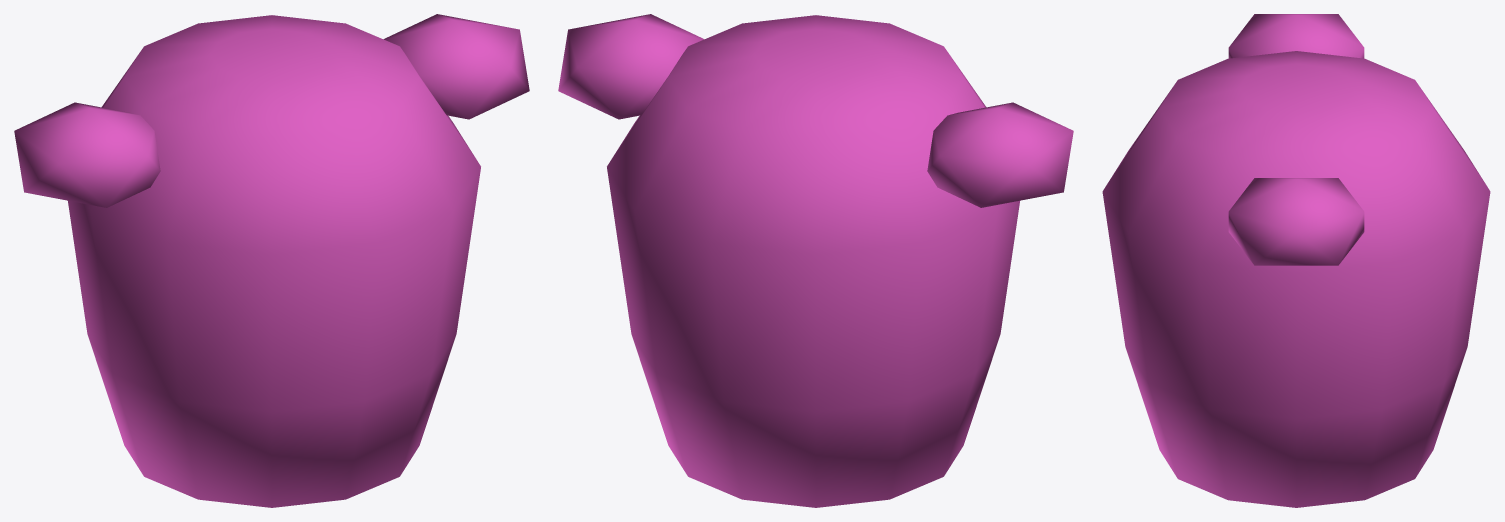
File: nebula_breastplate.glb
The picture shows the model from 3 angles, left to right: view 1: azimuth 30°, elevation 25°; view 2: azimuth 150°, elevation 25°; view 3: azimuth 270°, elevation 25°; orthographic projection. The views are drawn at different scales.
Parts seen in each view (by area): view 1: nebula_breastplate_v0; view 2: nebula_breastplate_v0; view 3: nebula_breastplate_v0.
Part boxes in pixels (x1,y1,x2,y2): nebula_breastplate_v0: [14, 14, 529, 507]; nebula_breastplate_v0: [558, 14, 1073, 507]; nebula_breastplate_v0: [1102, 14, 1490, 507].
Size of the model in its own units: 0.4652 by 0.35 by 0.34.
